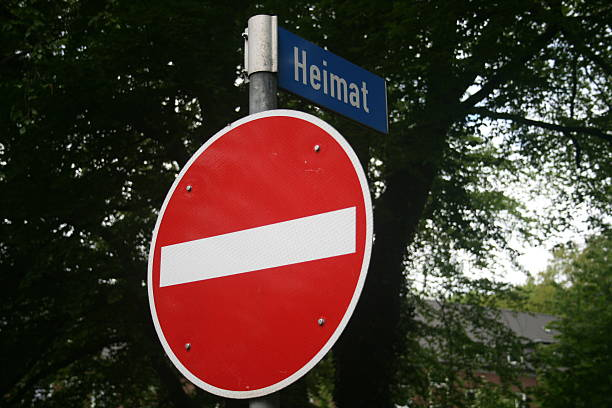Girilmez: (148, 104, 379, 399)
